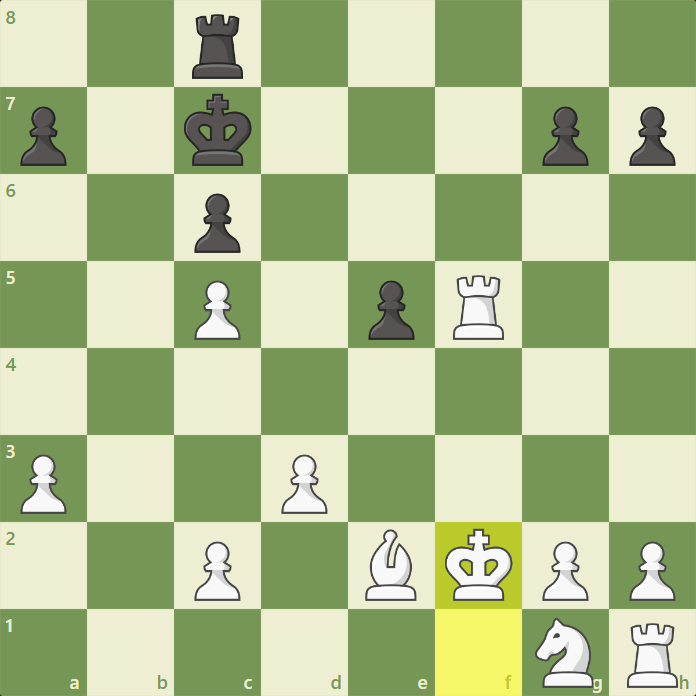B: (365, 527, 420, 604)
K: (443, 527, 514, 603)
N: (532, 617, 596, 690)
P: (18, 452, 69, 517), (191, 540, 243, 603), (279, 453, 331, 516), (539, 540, 591, 603), (626, 540, 678, 603), (195, 279, 241, 342)
R: (624, 621, 681, 691), (451, 272, 507, 343)
k: (182, 92, 253, 168)
p: (366, 278, 417, 342), (192, 191, 243, 255), (17, 105, 68, 169), (539, 106, 590, 170), (627, 105, 678, 169)
r: (190, 13, 246, 82)
